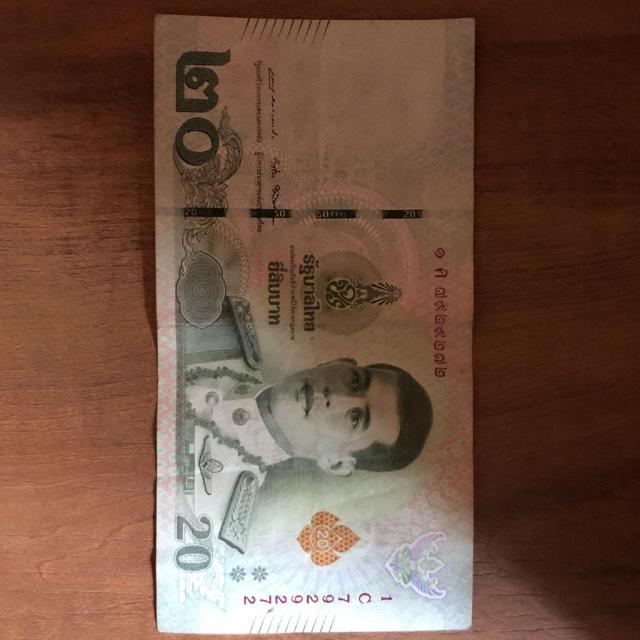THAI20: (151, 14, 478, 639)
